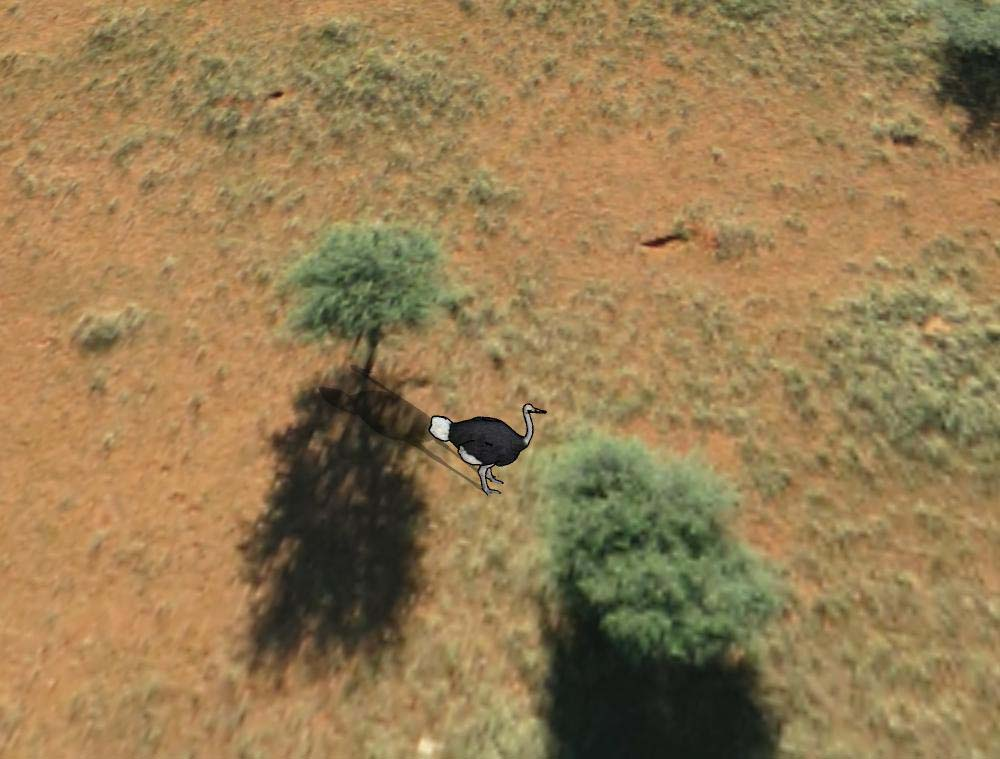springbok: (427, 395, 550, 499)
